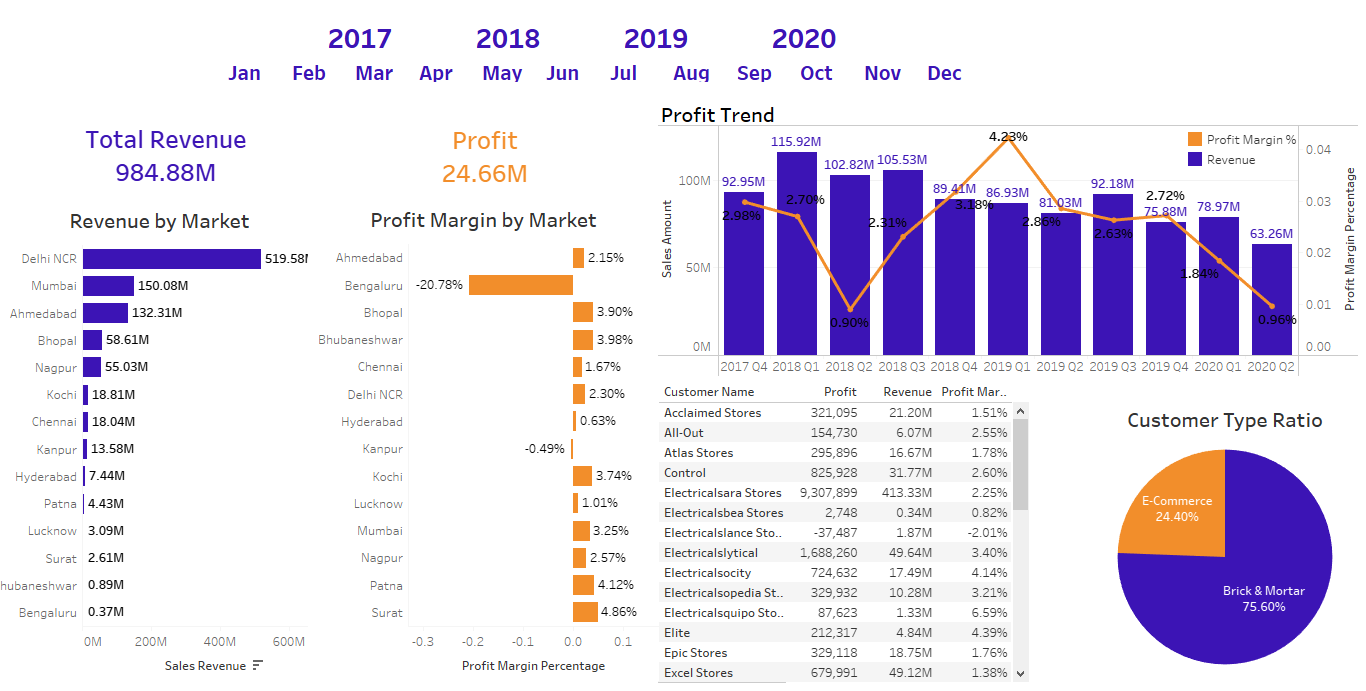

The page's visual inventory and layout, read from the dashboard file:
{"tool":"tableau","page":{"name":"Profit Analysis Dashboard","canvas":[1000,1000],"units":"permille","ordinal":2},"visuals":[{"type":"worksheet","title":"Year","mark":"Automatic","cols":["cy_date"],"box":[209.5,5.4,525.5,76.1]},{"type":"worksheet","title":"Month","mark":"Automatic","cols":["cy_date"],"box":[163.6,76.1,559.3,52.5]},{"type":"worksheet","title":"Profit Trend","mark":"Bar","rows":["sales_amount","Calculation_404198119374794754"],"cols":["cy_date"],"box":[481.7,127.6,513.2,423.2]},{"type":"worksheet","title":"revenue","mark":"Automatic","box":[35.9,143.2,170.6,155]},{"type":"worksheet","title":"Profit","mark":"Automatic","box":[254.8,145.8,199.8,153.7]},{"type":"text","box":[481.4,146.7,120.4,54.4]},{"type":"legend","title":"Profit Trend","param":"[federated.1dcgr940pe92x31fj4gx919bdz8u].[:Measure Names]","box":[867.5,168.5,108.2,96]},{"type":"worksheet","title":"Profit Margin by Market","mark":"Automatic","rows":["markets_name"],"cols":["Calculation_404198119374794754"],"box":[225.5,298.2,256.9,687.5]},{"type":"worksheet","title":"Customer Table","mark":"Automatic","rows":["custmer_name"],"box":[481.4,534.4,310,454.7]},{"type":"worksheet","title":"Customer Type Pie Chart","mark":"Pie","box":[806.1,585.1,181.8,396.7]}]}

Visuals, with their boxes on the dashboard's canvas, which has no fixed pixel size, in thousandths of its width and height (x1, y1, x2, y2). These are canvas units, not pixel positions in the 1366x691 screenshot, which may show the page scaled, cropped or inside an application window:
"Year" worksheet: box=[210, 5, 735, 82]
"Month" worksheet: box=[164, 76, 723, 129]
"Profit Trend" worksheet (Bar marks): box=[482, 128, 995, 551]
"revenue" worksheet: box=[36, 143, 206, 298]
"Profit" worksheet: box=[255, 146, 455, 300]
text: box=[481, 147, 602, 201]
"Profit Trend" legend: box=[868, 168, 976, 264]
"Profit Margin by Market" worksheet: box=[226, 298, 482, 986]
"Customer Table" worksheet: box=[481, 534, 791, 989]
"Customer Type Pie Chart" worksheet (Pie marks): box=[806, 585, 988, 982]
